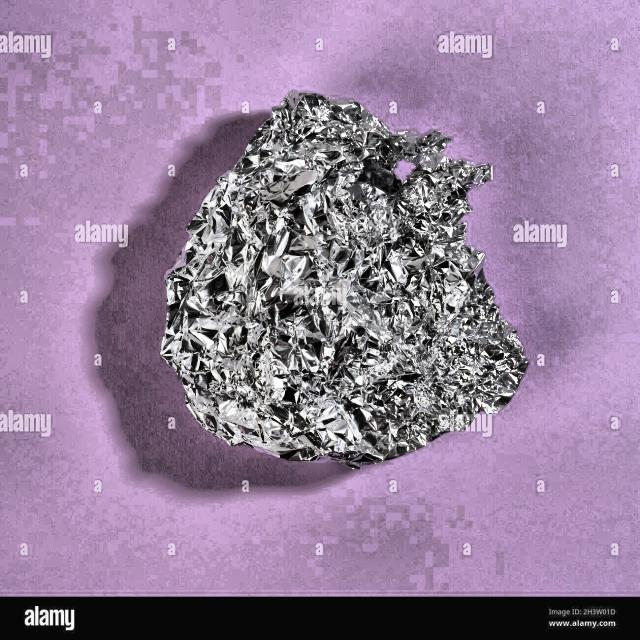Foil: (165, 83, 546, 475)
